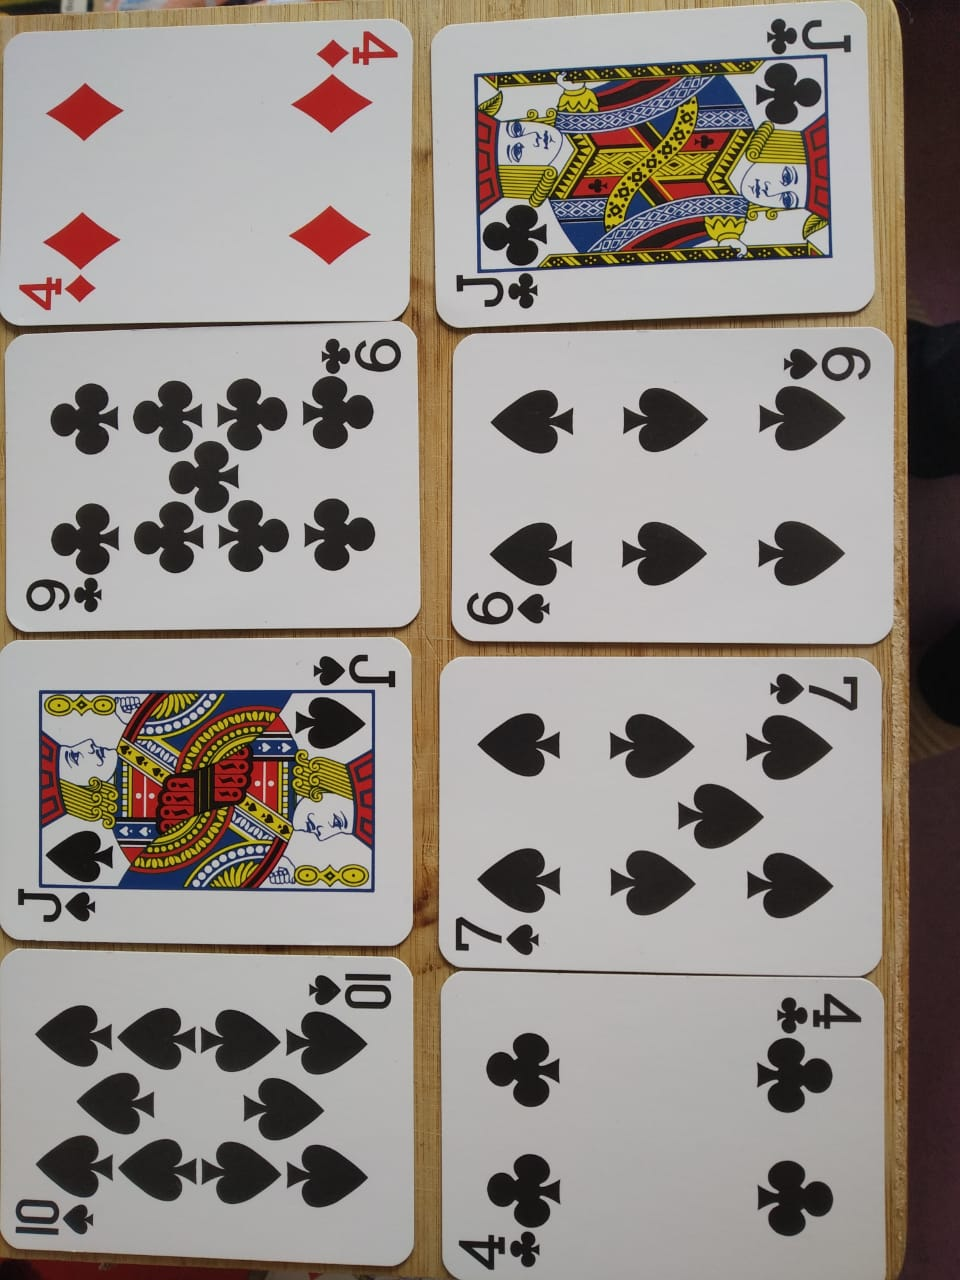four: (428, 963, 916, 1280), (7, 1, 412, 325)
jack: (416, 6, 934, 317), (1, 627, 418, 953)
nine: (1, 317, 432, 635)
seven: (428, 647, 960, 979)
six: (418, 321, 952, 655)
ten: (1, 945, 422, 1276)
